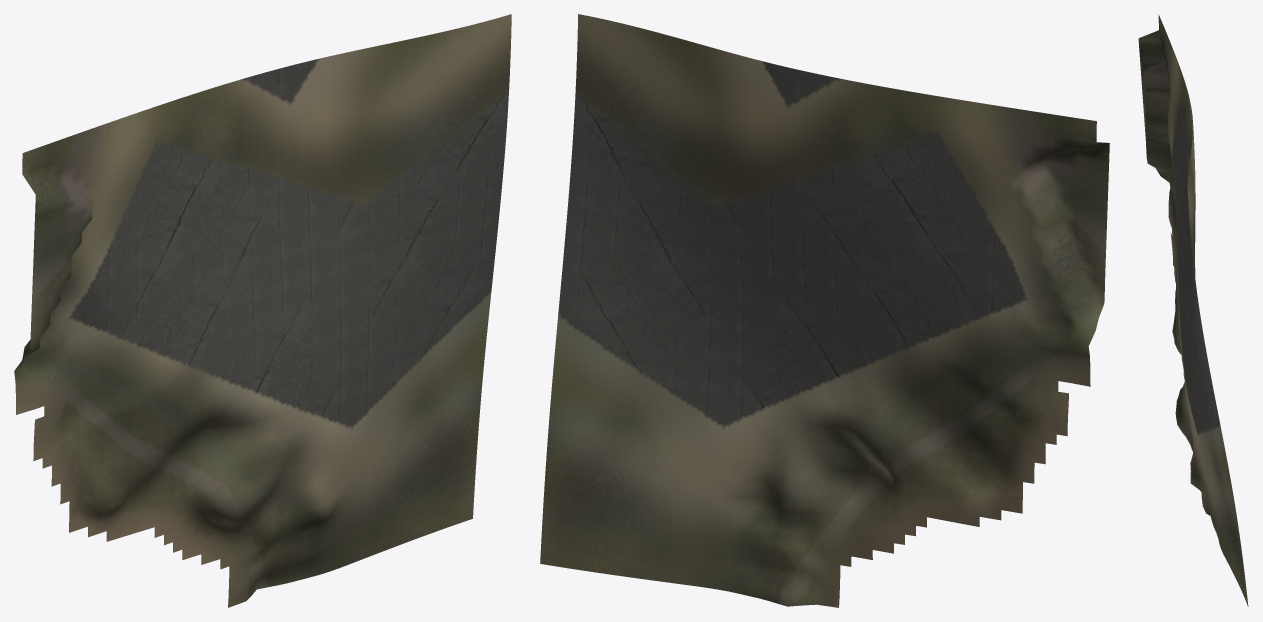
Rendered from ground_core_04_04.obj.
3 renders of one model, left to right at view 1: azimuth 30°, elevation 25°; view 2: azimuth 150°, elevation 25°; view 3: azimuth 270°, elevation 25°, orthographic. The views are drawn at different scales.
Visible parts, largest first — view 1: ground_core_04_04; view 2: ground_core_04_04; view 3: ground_core_04_04.
Part boxes in pixels (bbox=[...]): ground_core_04_04: bbox=[14, 14, 511, 607]; ground_core_04_04: bbox=[540, 14, 1109, 607]; ground_core_04_04: bbox=[1138, 14, 1248, 606].
Bounding box in the file's own units: 50 × 50 × 12.31.
Materials: 1 (1 with a texture image).
